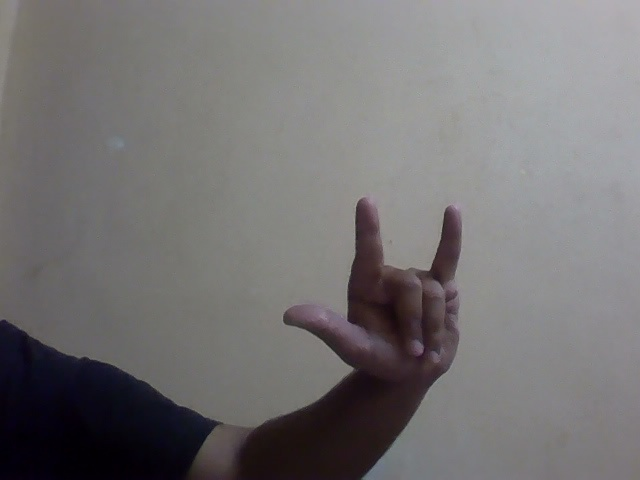I love you: (275, 187, 487, 401)
